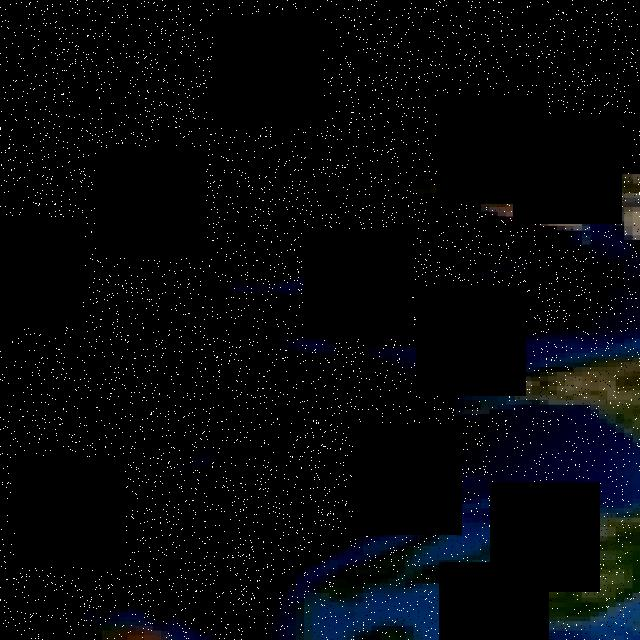Earth: (8, 170, 640, 640)
